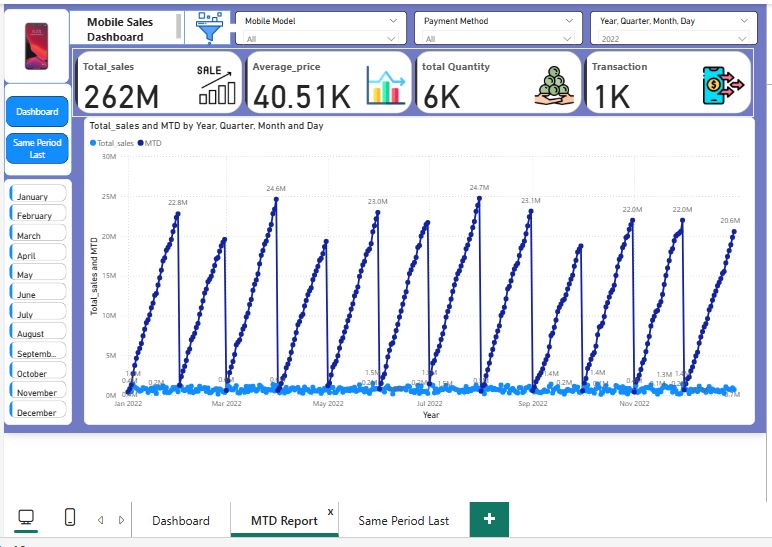

What the dashboard file says about the page in this screenshot:
{"tool":"powerbi","page":{"name":"MTD Report","canvas":[1280,720],"ordinal":1},"visuals":[{"type":"image","box":[0,8.4,109.2,124.3],"z":0},{"type":"cardVisual","fields":{"Data":["sales_data.Total_sales","sales_data.Average_price","sales_data.total Quantity","sales_data.Transaction"]},"box":[113.8,74.1,1146.6,115.5],"z":1000},{"type":"slicer","fields":{"Values":["sales_data.Mobile Model"]},"box":[388,11.8,288.9,57.1],"z":2000},{"type":"slicer","fields":{"Values":["sales_data.Payment Method"]},"box":[688.7,11.8,283.9,57.1],"z":3000},{"type":"slicer","fields":{"Values":["custom_calender.date.Variation.Date Hierarchy.Year","custom_calender.date.Variation.Date Hierarchy.Quarter","custom_calender.date.Variation.Date Hierarchy.Month","custom_calender.date.Variation.Date Hierarchy.Day"]},"box":[984.4,11.8,282.2,57.1],"z":4000},{"type":"shape","box":[302.4,10.1,79,58.8],"z":5000},{"type":"image","box":[302.4,8.4,85.7,65.5],"z":6000},{"type":"shape","box":[367.9,25.2,38.6,30.2],"z":7000},{"type":"shape","box":[109.2,10.1,193.2,58.8],"z":8000},{"type":"textbox","box":[134.4,11.8,168,55.4],"z":9000},{"type":"advancedSlicerVisual","fields":{"Values":["custom_calender.date.Variation.Date Hierarchy.Month"]},"box":[0,294,114.2,413.2],"z":12000},{"type":"lineChart","fields":{"Category":["custom_calender.date.Variation.Date Hierarchy.Year","custom_calender.date.Variation.Date Hierarchy.Quarter","custom_calender.date.Variation.Date Hierarchy.Month","custom_calender.date.Variation.Date Hierarchy.Day"],"Y":["sales_data.Total_sales","sales_data.MTD"]},"box":[134.4,189.8,1127.1,517.4],"z":12001},{"type":"shape","box":[0,132.7,114.2,156.2],"z":12002},{"type":"pageNavigator","box":[3.4,154.5,105.8,114.2],"z":12003}]}

Visuals, with their boxes on the page's 1280x720 design canvas (x1, y1, x2, y2). These are canvas units, not pixel positions in the 772x547 screenshot, which may show the page scaled, cropped or inside an application window:
image: box(0, 8, 109, 133)
cardVisual - sales_data.Total_sales x sales_data.Average_price: box(114, 74, 1260, 190)
slicer - sales_data.Mobile Model: box(388, 12, 677, 69)
slicer - sales_data.Payment Method: box(689, 12, 973, 69)
slicer - custom_calender.date.Variation.Date Hierarchy.Year x custom_calender.date.Variation.Date Hierarchy.Quarter: box(984, 12, 1267, 69)
shape: box(302, 10, 381, 69)
image: box(302, 8, 388, 74)
shape: box(368, 25, 406, 55)
shape: box(109, 10, 302, 69)
textbox: box(134, 12, 302, 67)
advancedSlicerVisual - custom_calender.date.Variation.Date Hierarchy.Month: box(0, 294, 114, 707)
lineChart - custom_calender.date.Variation.Date Hierarchy.Year x custom_calender.date.Variation.Date Hierarchy.Quarter: box(134, 190, 1262, 707)
shape: box(0, 133, 114, 289)
pageNavigator: box(3, 154, 109, 269)
